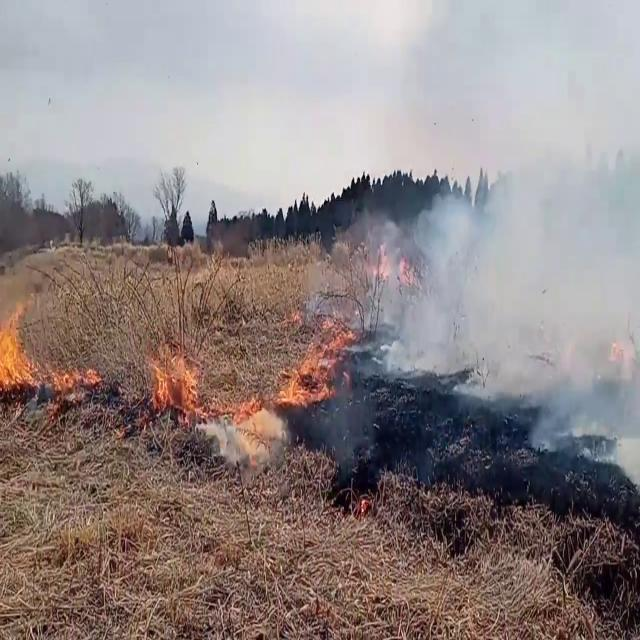Fire: (274, 320, 340, 412), (146, 338, 202, 418), (0, 270, 35, 393)
Smoke: (367, 11, 640, 479)
